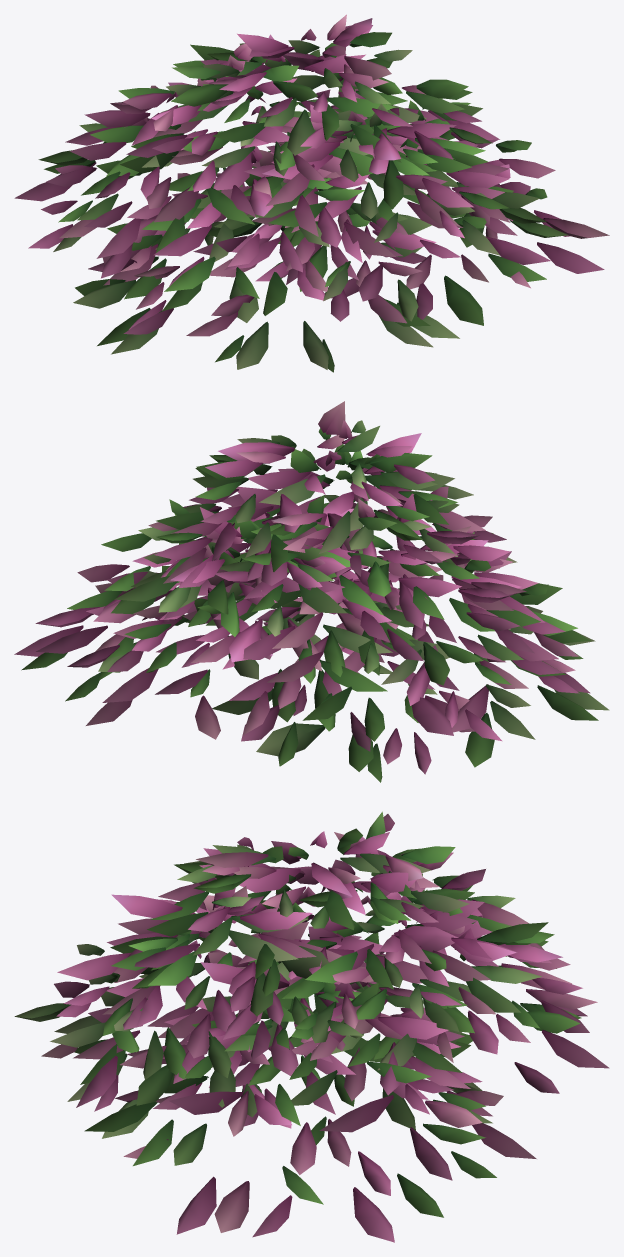
Rendered from bush_flower.glb.
3 views of the same model, one above another, from view 1: azimuth 30°, elevation 25°; view 2: azimuth 150°, elevation 25°; view 3: azimuth 270°, elevation 25° (orthographic). The views are drawn at different scales.
Visible parts, largest first — view 1: bush_flower; view 2: bush_flower; view 3: bush_flower.
Boxes of the visible parts, x1=… form: bush_flower: x1=14, y1=14, x2=609, y2=372; bush_flower: x1=14, y1=401, x2=609, y2=782; bush_flower: x1=14, y1=811, x2=609, y2=1242.
Bounding box in the file's own units: 1.62 × 0.7616 × 1.51.
